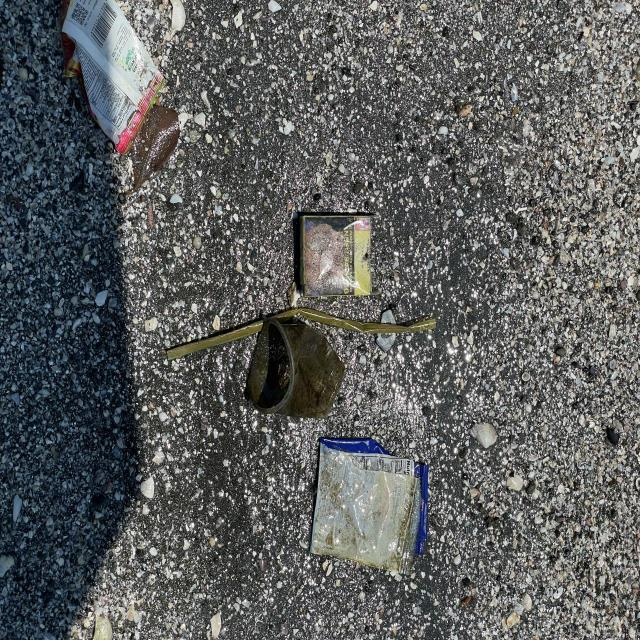plastic_waste: (308, 436, 429, 576), (59, 0, 167, 156), (247, 317, 346, 421), (298, 214, 374, 298)
